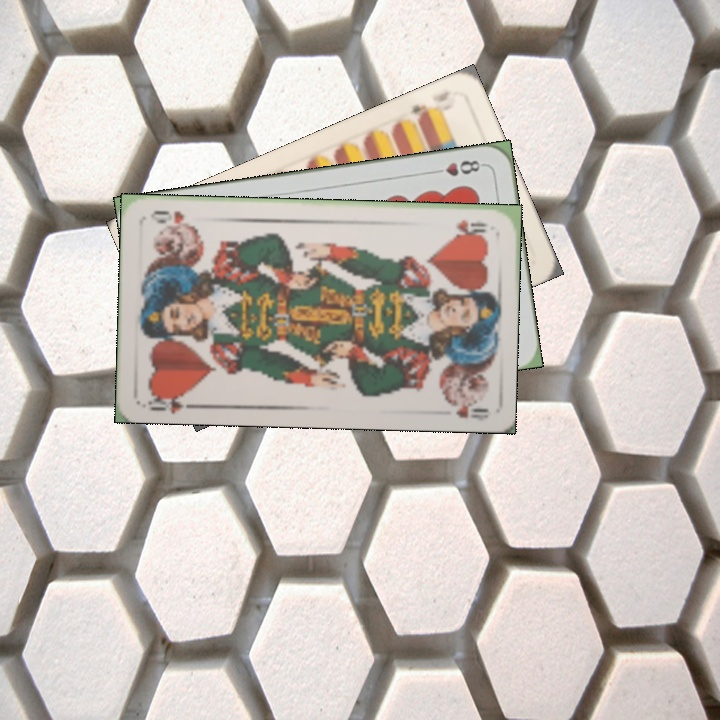E10: (406, 98, 440, 125)
H8: (428, 156, 487, 179)
HO: (140, 388, 199, 415), (451, 215, 490, 238)
